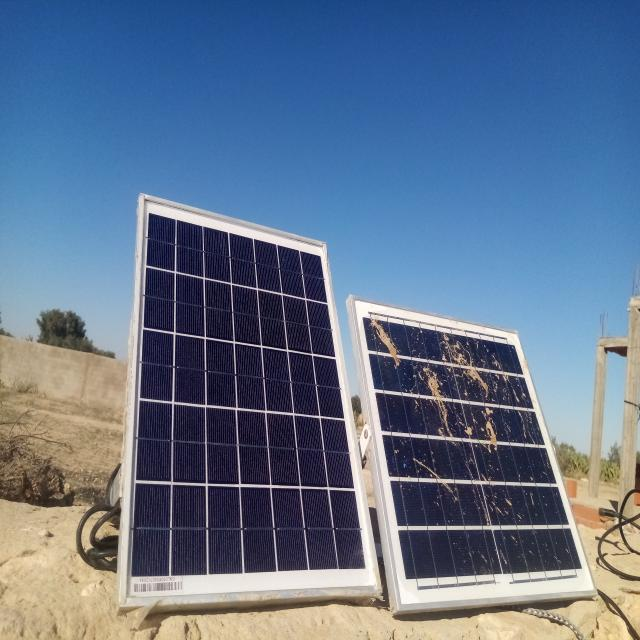Normal Solar Panel: (119, 194, 381, 605)
